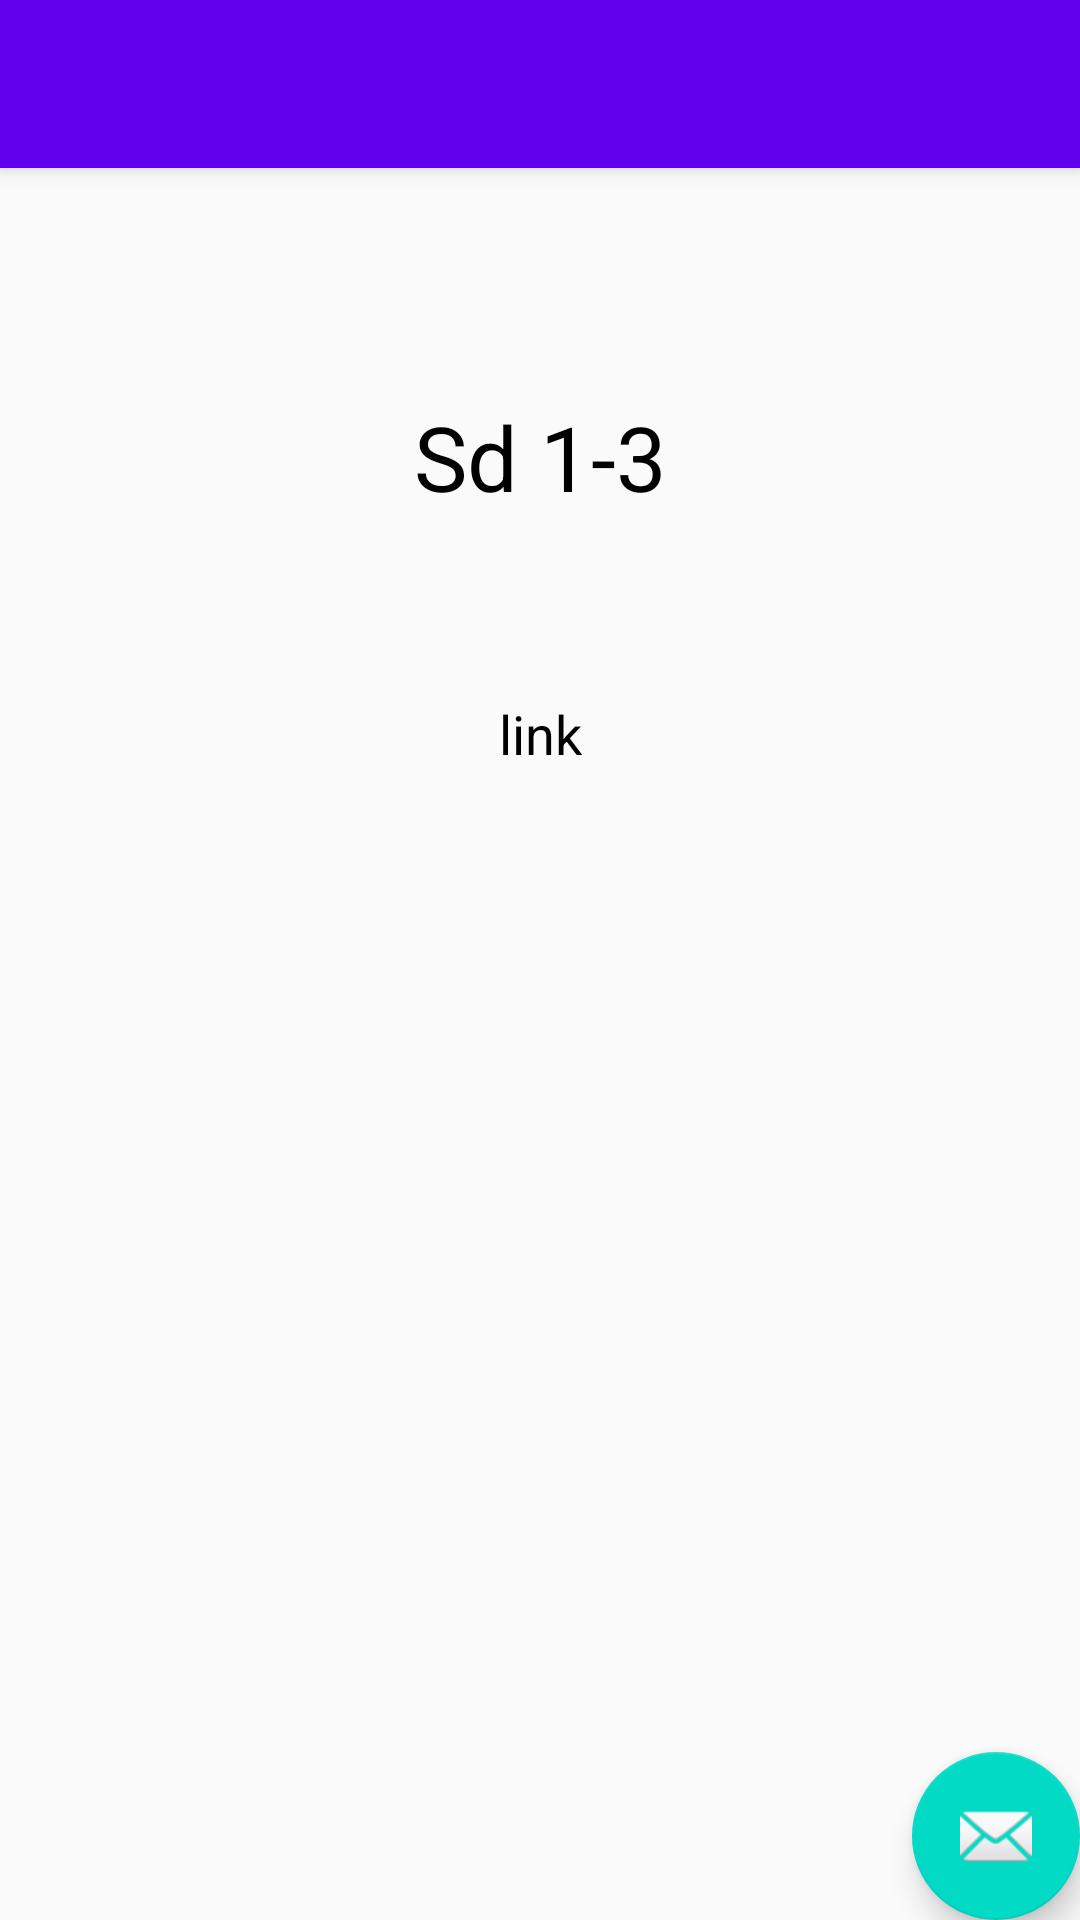

Where to tap for icons on this 1080px×1920px app screen, as [x,y]:
Email icon: [996,1836]
